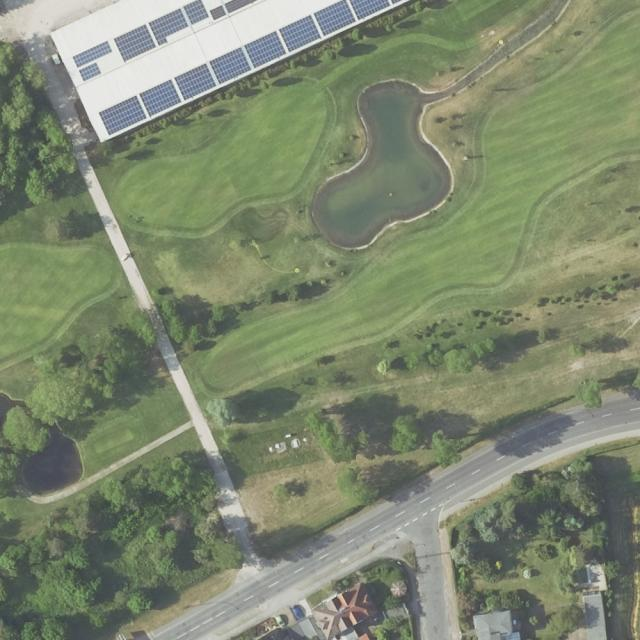PV: (98, 94, 146, 135), (174, 63, 217, 101), (209, 47, 252, 85), (279, 15, 322, 53), (140, 79, 181, 118), (245, 30, 286, 69), (148, 8, 189, 46), (113, 25, 156, 61), (314, 0, 355, 36), (73, 40, 113, 68), (349, 0, 390, 21), (80, 62, 101, 82), (225, 0, 257, 13), (209, 5, 226, 19)
